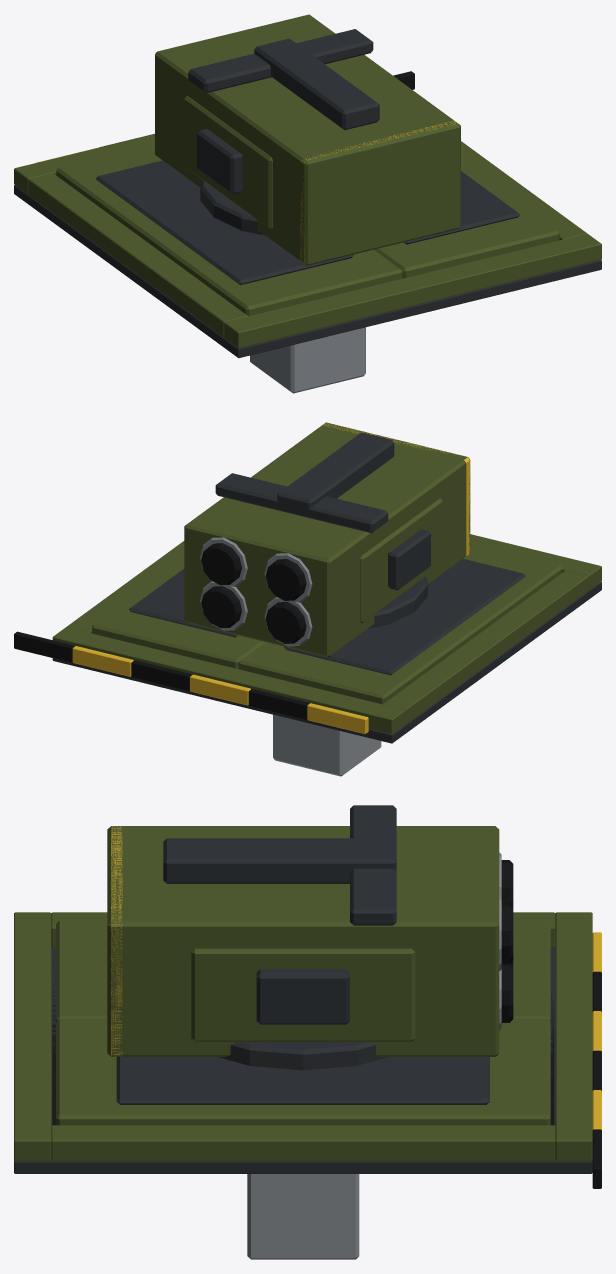
File: launcher.glb
The picture shows the model from 3 angles, top to bottom: view 1: azimuth 30°, elevation 25°; view 2: azimuth 150°, elevation 25°; view 3: azimuth 270°, elevation 25°; orthographic projection. The views are drawn at different scales.
Visible parts, largest first — view 1: pod, base, hatch_L, hatch_R, turret, lift_col; view 2: pod, base, hatch_L, hatch_R, turret, lift_col; view 3: pod, base, hatch_R, turret, lift_col, hatch_L.
Part boxes in pixels (x1,y1,x2,y2): pod: [155, 14, 460, 265]; base: [14, 71, 601, 358]; hatch_L: [56, 144, 402, 316]; hatch_R: [374, 160, 559, 278]; turret: [184, 95, 272, 235]; lift_col: [250, 327, 365, 393]; pod: [184, 422, 470, 657]; base: [14, 534, 601, 743]; hatch_L: [238, 543, 562, 704]; hatch_R: [92, 559, 265, 669]; turret: [360, 498, 442, 628]; lift_col: [273, 714, 381, 776]; pod: [107, 805, 513, 1056]; base: [14, 912, 601, 1188]; hatch_R: [56, 1019, 550, 1125]; turret: [191, 948, 415, 1070]; lift_col: [247, 1174, 359, 1259]; hatch_L: [56, 920, 550, 1021].
Size of the model in its own units: 1.28 by 0.92 by 1.26.
